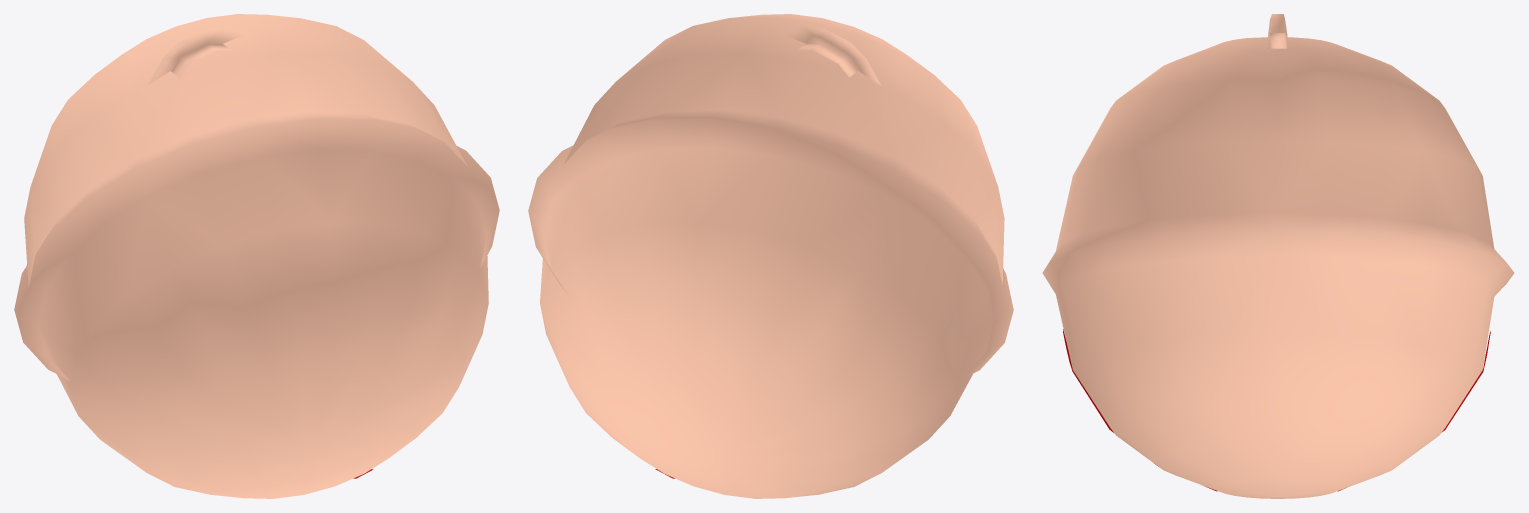
File: ps2_save-icons_bloodlastvampirejoukan.glb
3 views of the same model, side by side, from view 1: azimuth 30°, elevation 25°; view 2: azimuth 150°, elevation 25°; view 3: azimuth 270°, elevation 25° (orthographic). The views are drawn at different scales.
Parts seen in each view (by area): view 1: suzu.ico; view 2: suzu.ico; view 3: suzu.ico.
Part boxes in pixels (x1=…): suzu.ico: x1=14, y1=14, x2=499, y2=498; suzu.ico: x1=528, y1=14, x2=1013, y2=498; suzu.ico: x1=1042, y1=14, x2=1514, y2=498.
Bounding box in the file's own units: 3.88 × 4.06 × 3.98.
Materials: 1 (1 with a texture image).
